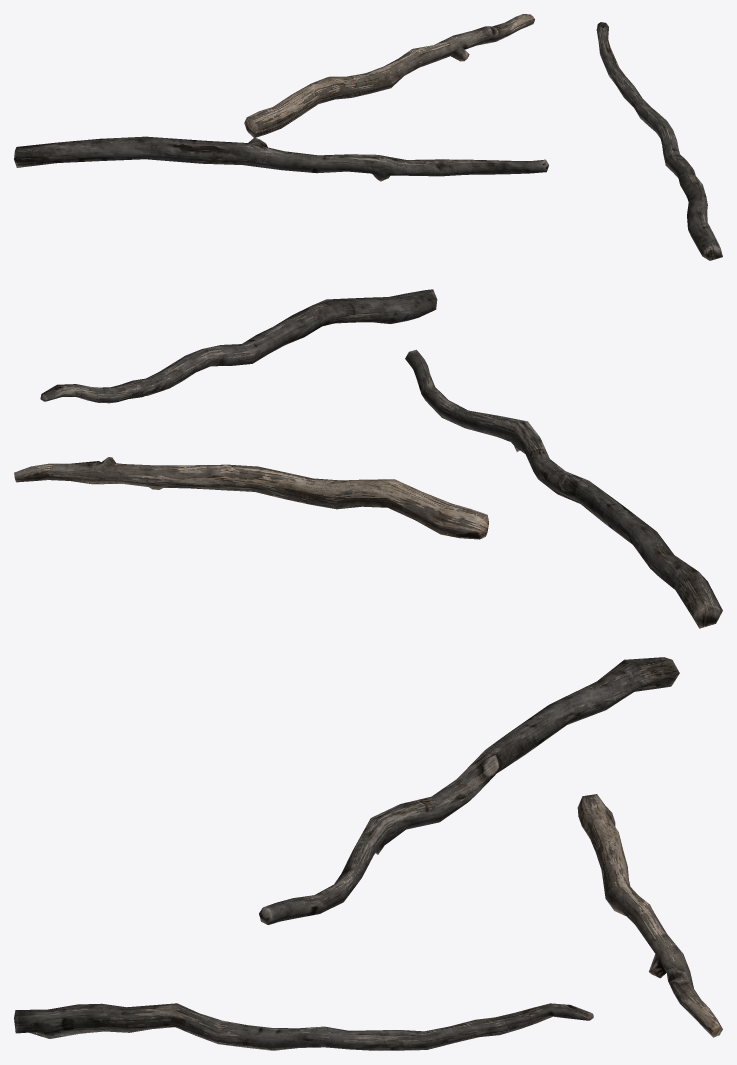
Rendered from SM_Twigs_Debris_C.fbx.
3 views of the same model, one above another, from view 1: azimuth 30°, elevation 25°; view 2: azimuth 150°, elevation 25°; view 3: azimuth 270°, elevation 25° (orthographic). The views are drawn at different scales.
Parts seen in each view (by area): view 1: SM_Twigs_Debris_C_LOD0; view 2: SM_Twigs_Debris_C_LOD0; view 3: SM_Twigs_Debris_C_LOD0.
Boxes of the visible parts, x1,y1,x2,y2 form: SM_Twigs_Debris_C_LOD0: (14, 14, 722, 260); SM_Twigs_Debris_C_LOD0: (14, 289, 722, 628); SM_Twigs_Debris_C_LOD0: (14, 657, 722, 1050).
Bounding box in the file's own units: 167 × 133 × 18.98.
1 material, 1 textured.
